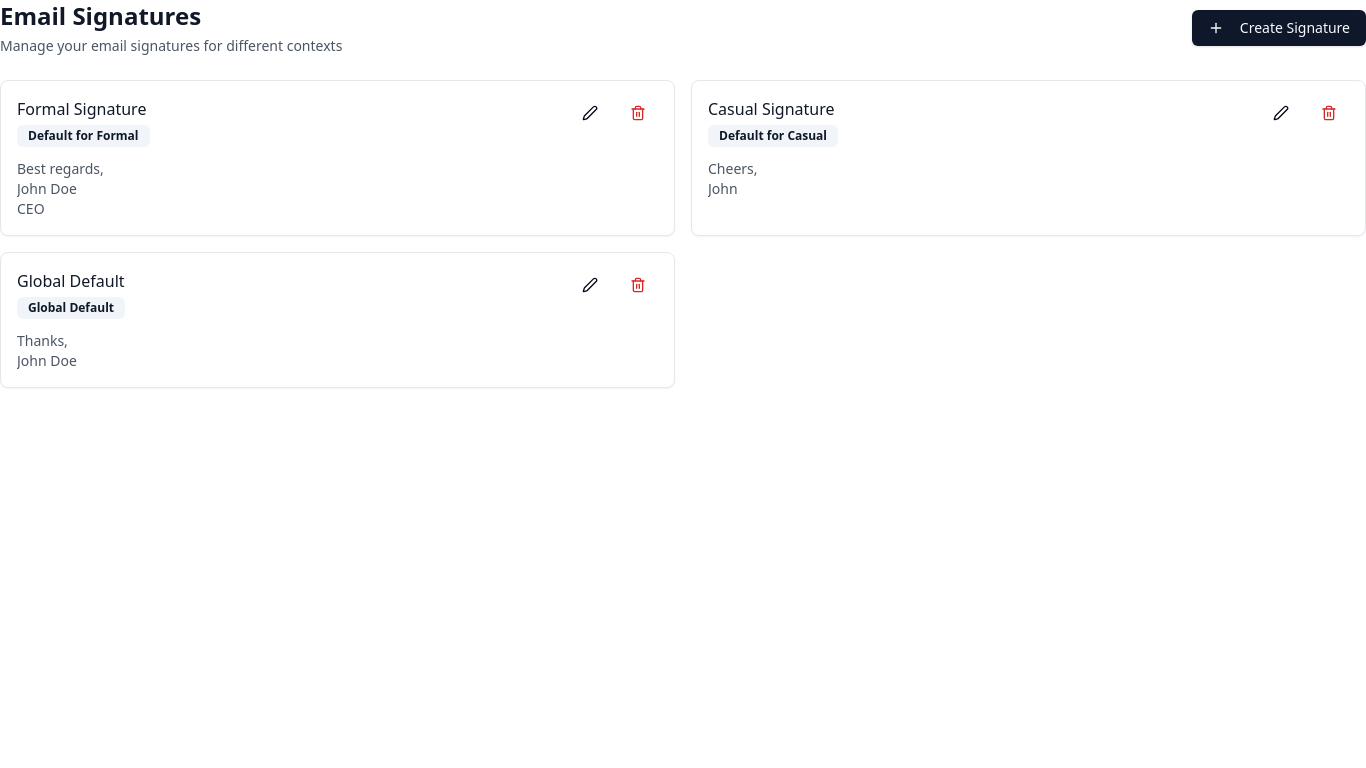
SignatureManager › edit signature › opens edit modal when edit button is clicked
The width and height of the screenshot is (1366, 768).
Click the button named "edit": [590, 113] box x1=570 y1=97 x2=610 y2=129
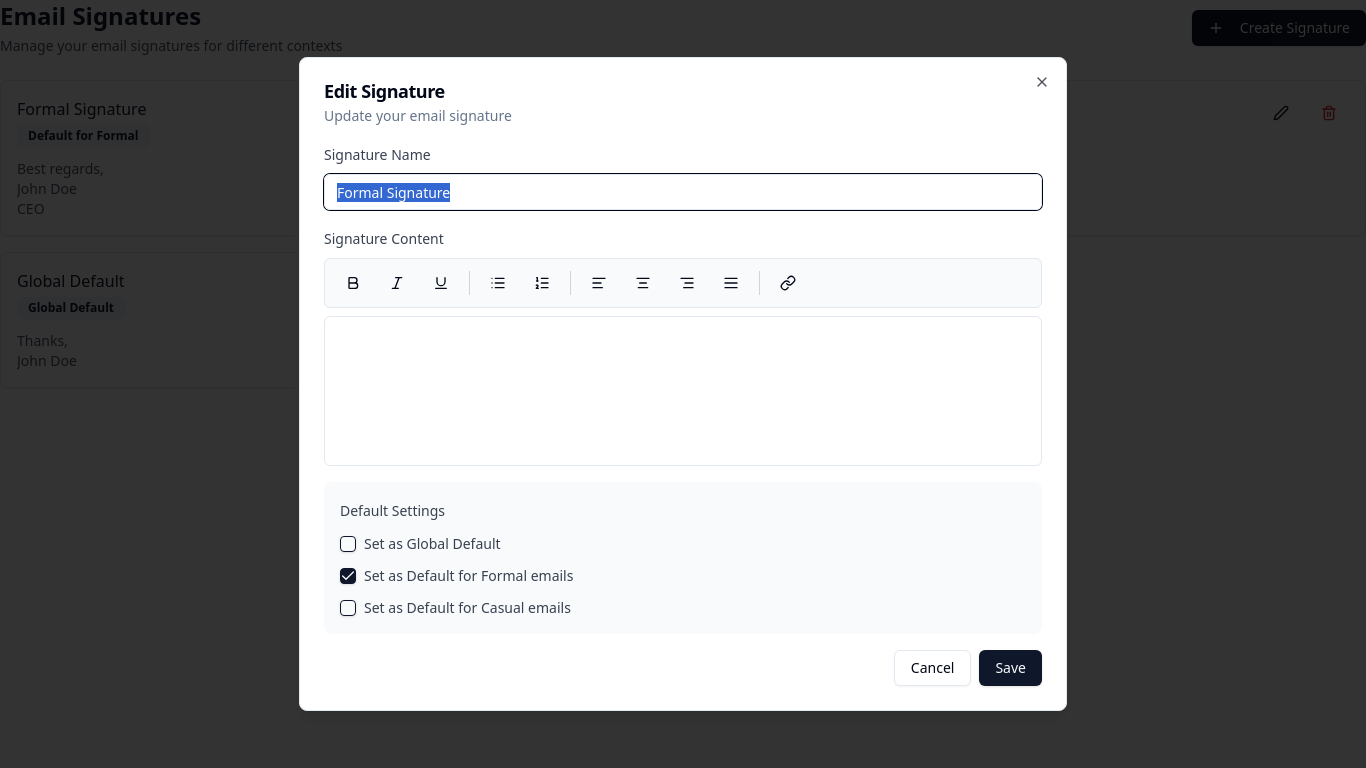
Expected: the heading "Edit Signature" is shown, x1=324 y1=79 x2=445 y2=103
